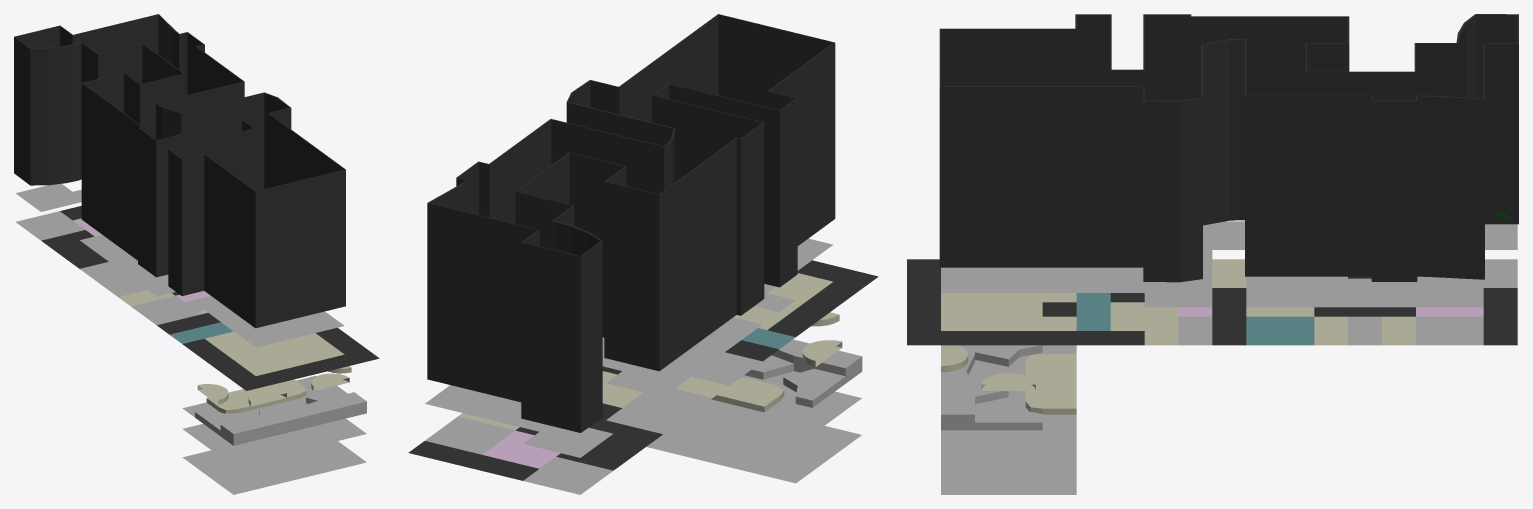
File: ModularWhiteboxV1.fbx
3 views of the same model, side by side, from view 1: azimuth 30°, elevation 25°; view 2: azimuth 150°, elevation 25°; view 3: azimuth 270°, elevation 25° (orthographic). The views are drawn at different scales.
Parts seen in each view (by area): view 1: BoarderWalls, TrippleBArena, WhiteboxChunk4, WhiteboxChunk5, Module9, Module8, WhiteboxChunk01, WhiteboxChunk3, Module6, WhiteboxChunk2, Start; view 2: BoarderWalls, WhiteboxChunk01, TrippleBArena, WhiteboxChunk5, WhiteboxChunk4, WhiteboxChunk2, Module9, Module6, WhiteboxChunk3, Start, Module3, Module8 (+1 smaller); view 3: BoarderWalls, WhiteboxChunk4, TrippleBArena, WhiteboxChunk3, WhiteboxChunk01, WhiteboxChunk2, WhiteboxChunk5, Module4, Module8, Module9, Module7, Module3 (+2 smaller).
Boxes of the visible parts, bbox=[...] form: BoarderWalls: bbox=[14, 14, 345, 328]; TrippleBArena: bbox=[182, 366, 366, 445]; WhiteboxChunk4: bbox=[170, 322, 379, 390]; WhiteboxChunk5: bbox=[182, 441, 366, 494]; Module9: bbox=[183, 418, 366, 466]; Module8: bbox=[170, 296, 344, 347]; WhiteboxChunk01: bbox=[16, 206, 101, 259]; WhiteboxChunk3: bbox=[118, 290, 220, 334]; Module6: bbox=[80, 234, 175, 296]; WhiteboxChunk2: bbox=[67, 252, 146, 296]; Start: bbox=[15, 183, 81, 211]; BoarderWalls: bbox=[427, 14, 835, 432]; WhiteboxChunk01: bbox=[408, 413, 646, 494]; TrippleBArena: bbox=[711, 312, 862, 419]; WhiteboxChunk5: bbox=[646, 419, 861, 483]; WhiteboxChunk4: bbox=[734, 260, 878, 349]; WhiteboxChunk2: bbox=[589, 371, 712, 446]; Module9: bbox=[684, 391, 861, 446]; Module6: bbox=[606, 317, 762, 397]; WhiteboxChunk3: bbox=[602, 340, 778, 397]; Start: bbox=[523, 425, 612, 457]; Module3: bbox=[425, 385, 507, 417]; Module8: bbox=[754, 238, 832, 312]; BoarderWalls: bbox=[939, 14, 1518, 282]; WhiteboxChunk4: bbox=[907, 259, 1110, 345]; TrippleBArena: bbox=[941, 345, 1076, 430]; WhiteboxChunk3: bbox=[1110, 259, 1246, 345]; WhiteboxChunk01: bbox=[1382, 259, 1517, 345]; WhiteboxChunk2: bbox=[1246, 276, 1381, 345]; WhiteboxChunk5: bbox=[941, 457, 1076, 494]; Module4: bbox=[1246, 278, 1415, 307]; Module8: bbox=[941, 267, 1110, 292]; Module9: bbox=[941, 430, 1076, 457]; Module7: bbox=[1110, 250, 1212, 307]; Module3: bbox=[1416, 278, 1483, 307].
Size of the model in its own units: 34.61 by 72.47 by 102.
